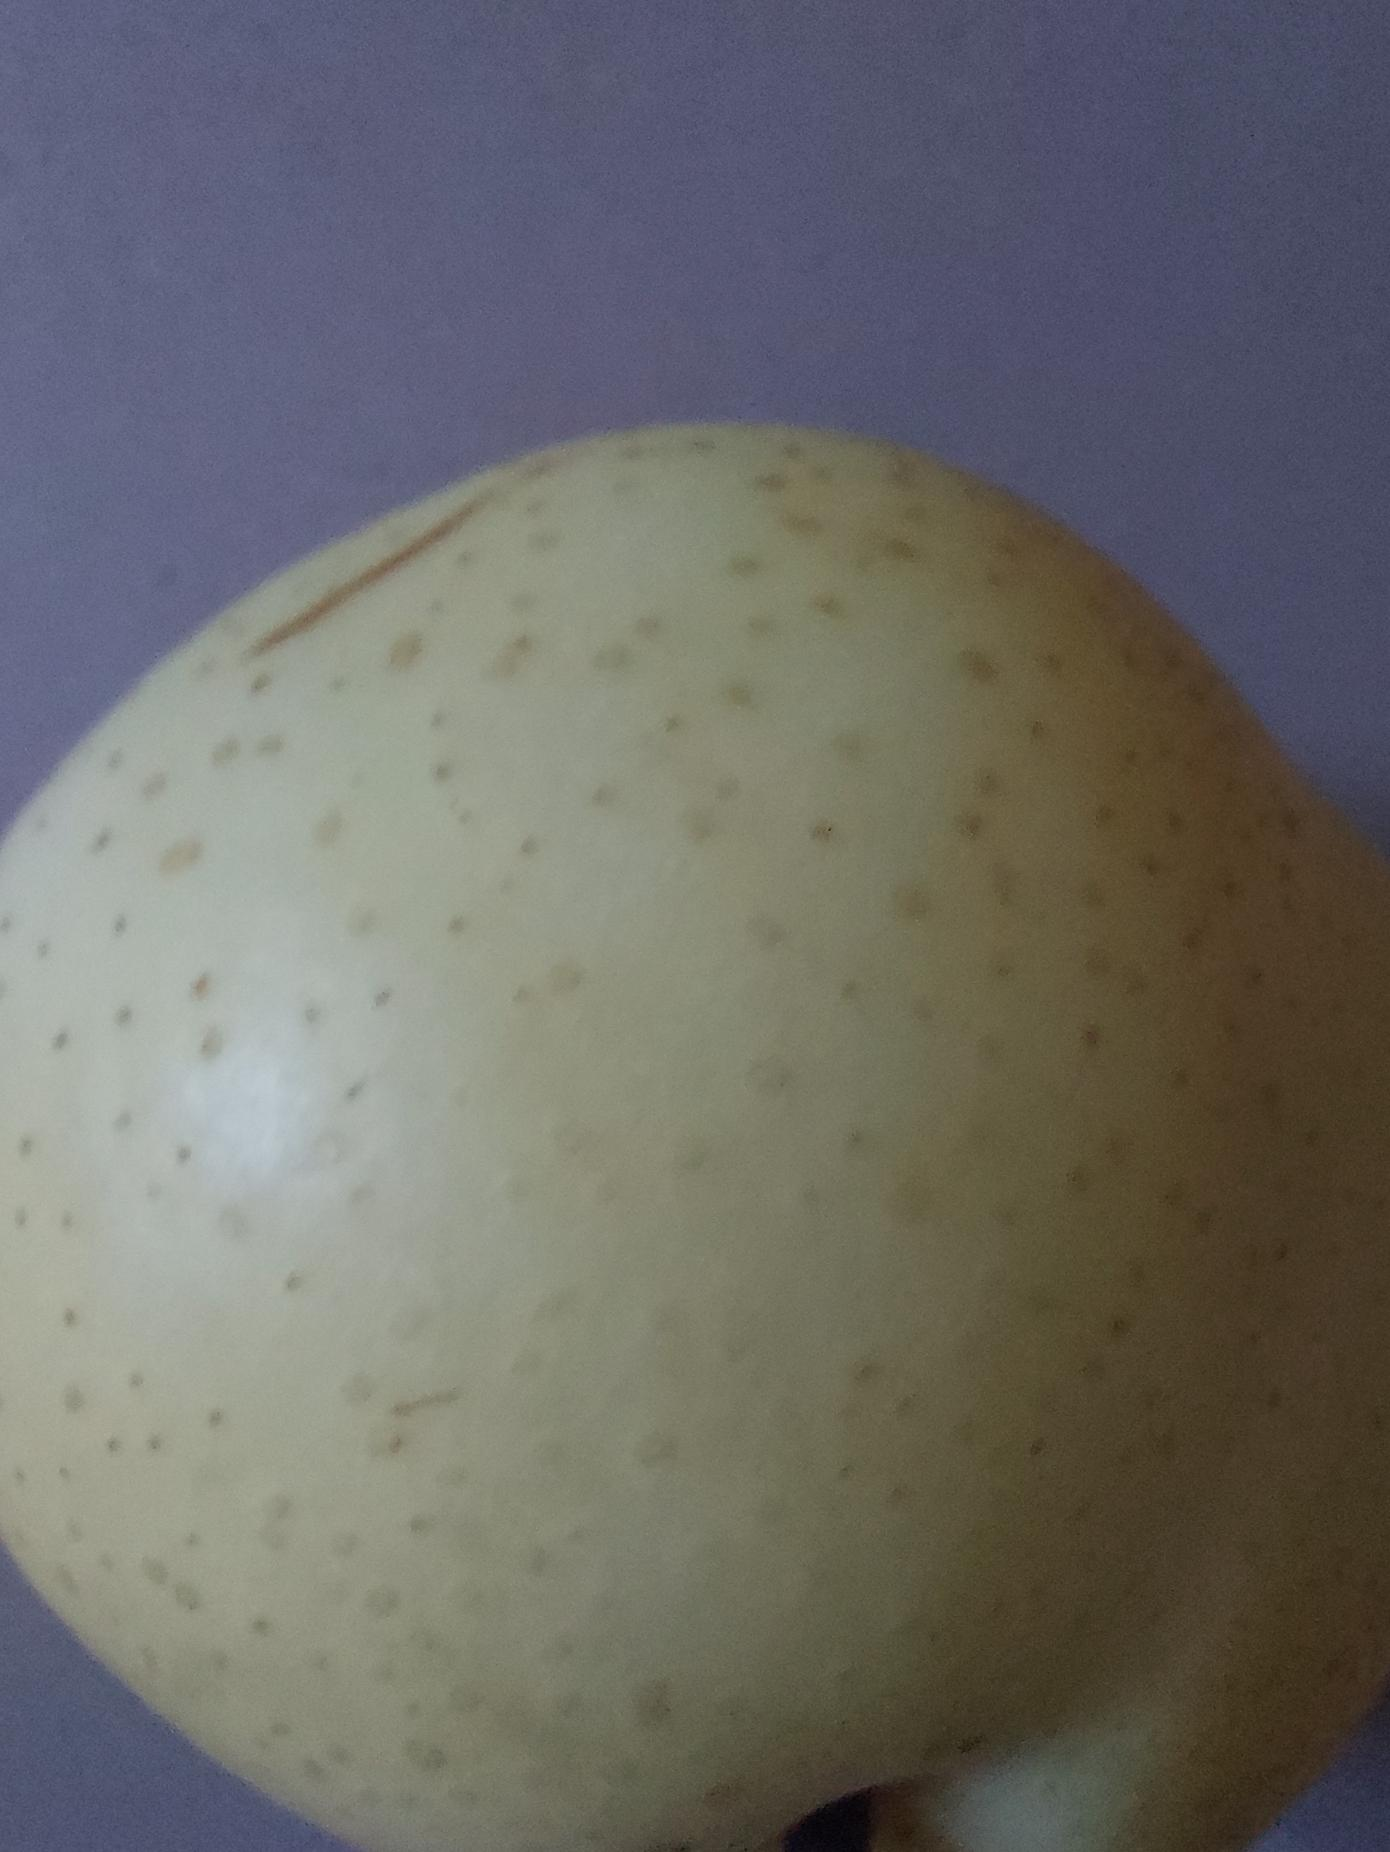Good Pear: (0, 412, 1390, 1852)
